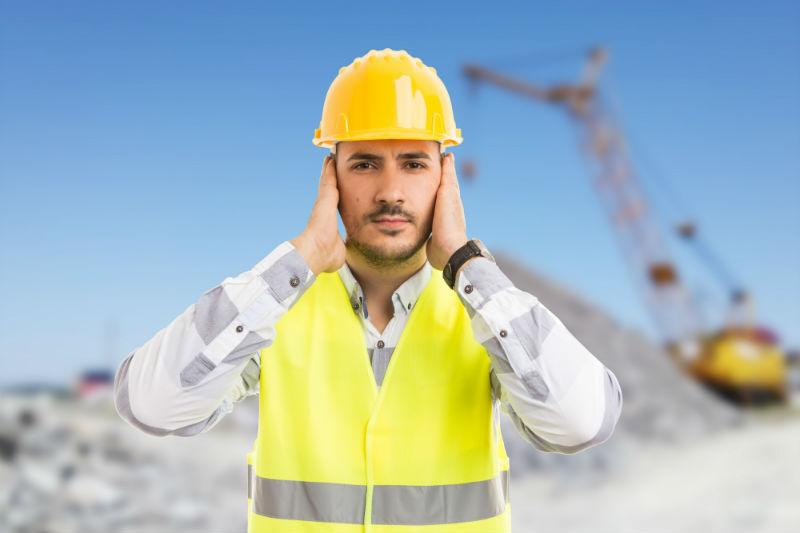helmet: (316, 50, 465, 151)
